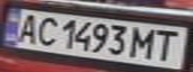1: (54, 17, 78, 50)
3: (106, 22, 133, 56)
4: (72, 19, 93, 52)
9: (90, 20, 112, 54)
A: (12, 11, 42, 44)
C: (30, 15, 60, 47)
M: (127, 25, 163, 60)
T: (148, 27, 187, 62)
